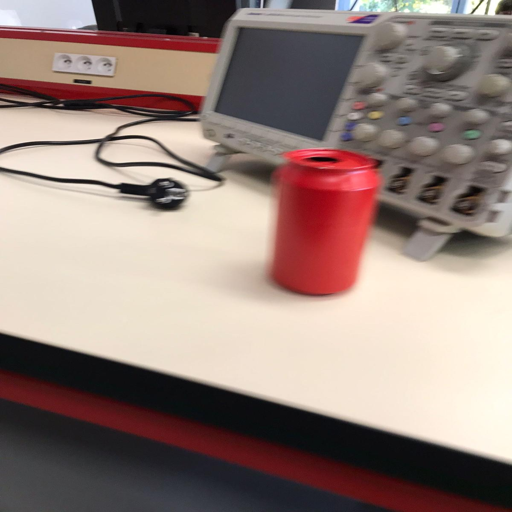Red_Can: (265, 147, 381, 298)
